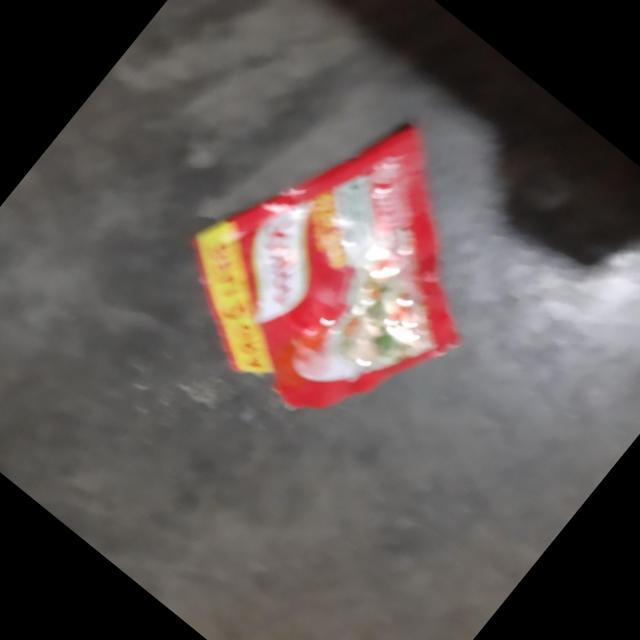KemasanPlastik: (140, 61, 549, 474)
